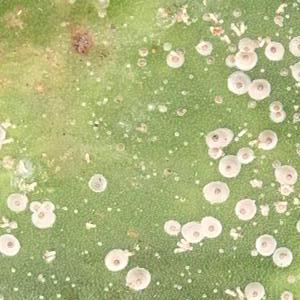Femea: (85, 172, 106, 193), (274, 167, 295, 183), (206, 185, 225, 201), (7, 192, 23, 210), (248, 80, 266, 96), (230, 79, 248, 95), (205, 129, 222, 145), (264, 44, 284, 56), (162, 220, 178, 235), (235, 53, 254, 65), (34, 210, 50, 224), (235, 202, 251, 216), (196, 40, 213, 52), (165, 53, 179, 66), (267, 111, 285, 121), (208, 147, 222, 159), (225, 54, 239, 65), (278, 290, 294, 299), (267, 102, 281, 111), (29, 201, 40, 211), (42, 202, 53, 212)
Macho: (172, 238, 189, 254), (235, 282, 245, 299), (220, 287, 234, 299), (42, 247, 57, 257), (237, 125, 247, 137)
